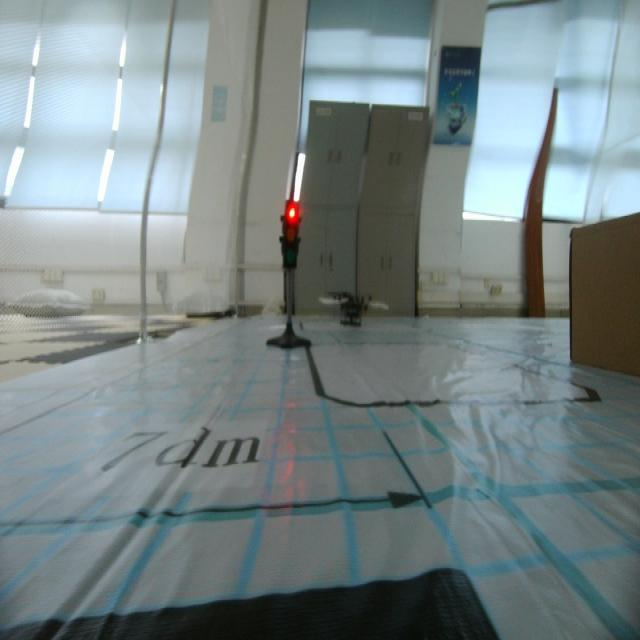red: (280, 196, 302, 274)
